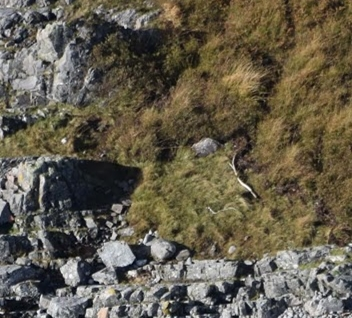tube: (229, 150, 258, 200)
